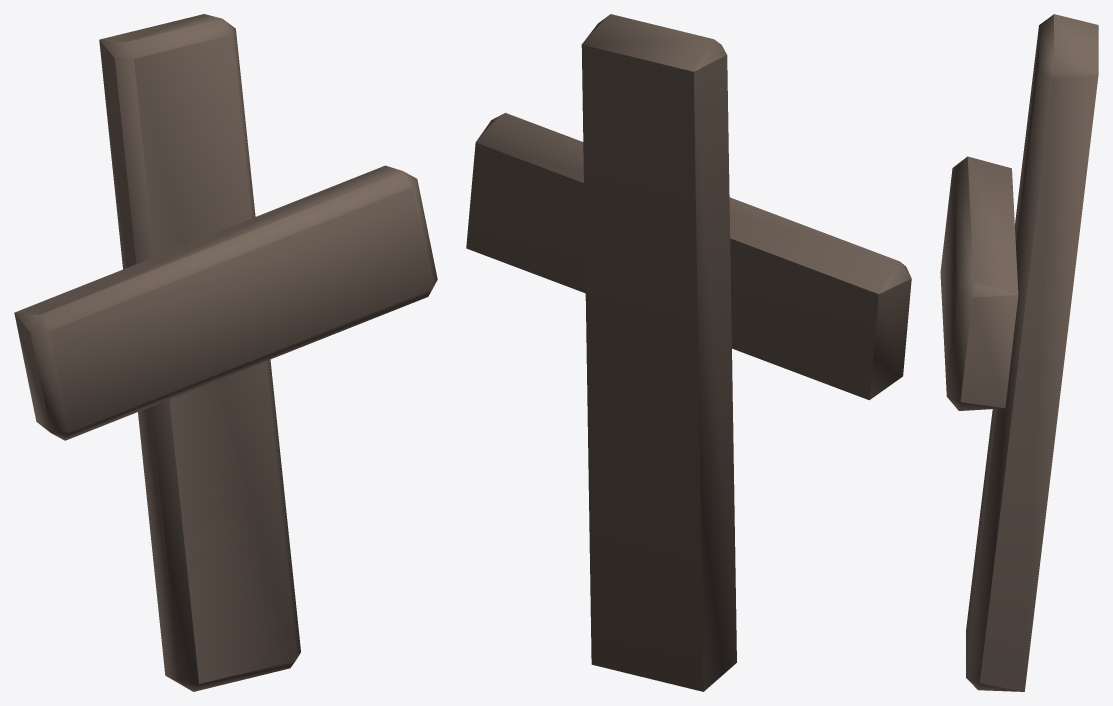
The model's file is graveMarker.glb.
3 renders of one model, left to right at view 1: azimuth 30°, elevation 25°; view 2: azimuth 150°, elevation 25°; view 3: azimuth 270°, elevation 25°, orthographic. The views are drawn at different scales.
Parts seen in each view (by area): view 1: gravemarker_A; view 2: gravemarker_A; view 3: gravemarker_A.
Boxes of the visible parts, x1,y1,x2,y2 form: gravemarker_A: (14,14,437,691); gravemarker_A: (466,14,911,691); gravemarker_A: (940,14,1098,691).
Bounding box in the file's own units: 0.806 × 1.2 × 0.2782.
Materials: 1 (1 with a texture image).
